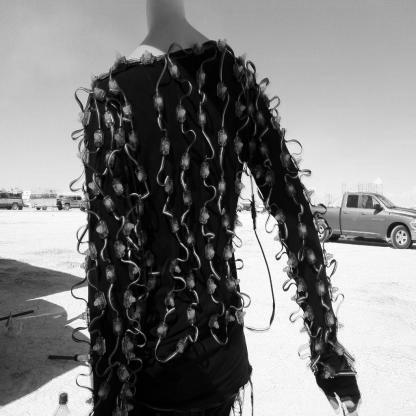truck: (298, 174, 416, 256)
